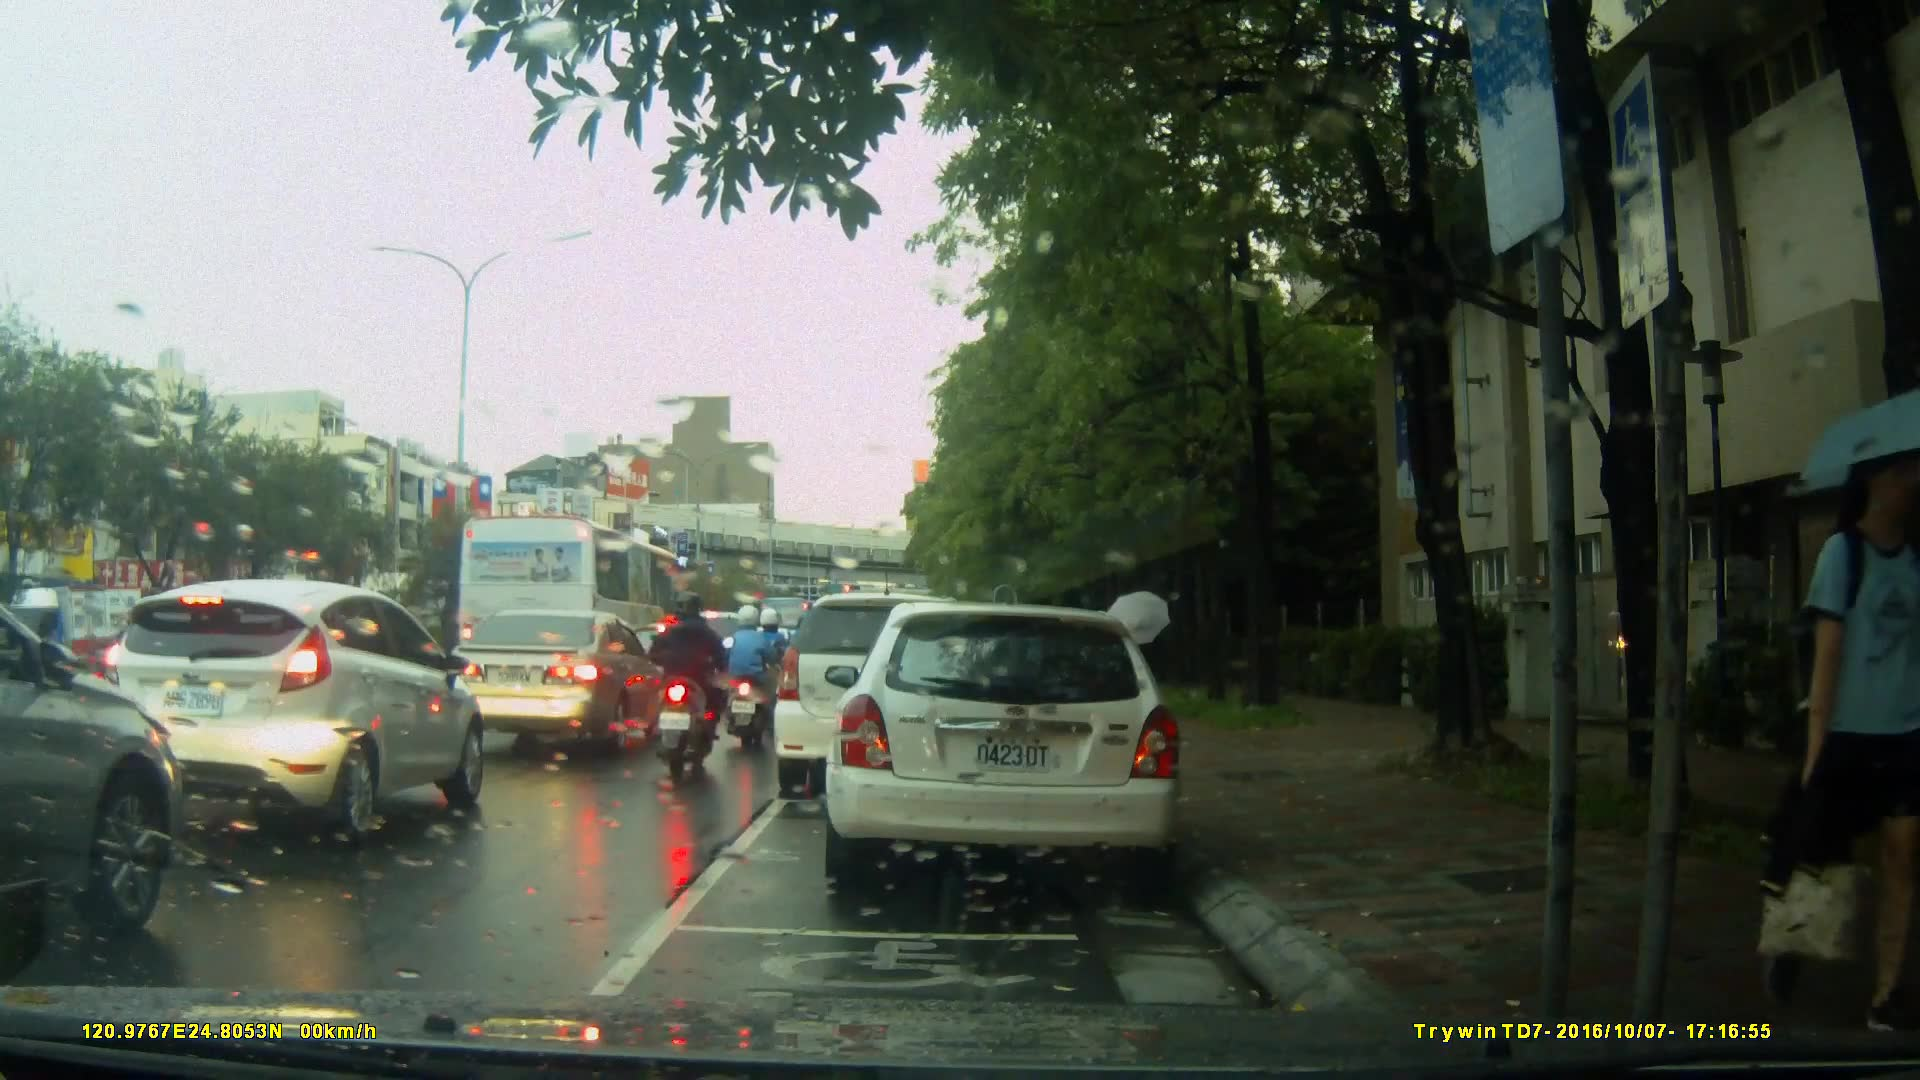pedestrian: (1761, 432, 1907, 1030)
rider: (656, 588, 735, 772), (722, 601, 773, 747), (758, 605, 796, 730)
vehicle: (835, 594, 1194, 898), (101, 577, 489, 846), (1, 547, 184, 971), (776, 590, 1026, 784), (450, 511, 692, 706), (441, 607, 674, 757), (1, 586, 154, 697), (623, 622, 731, 712)
